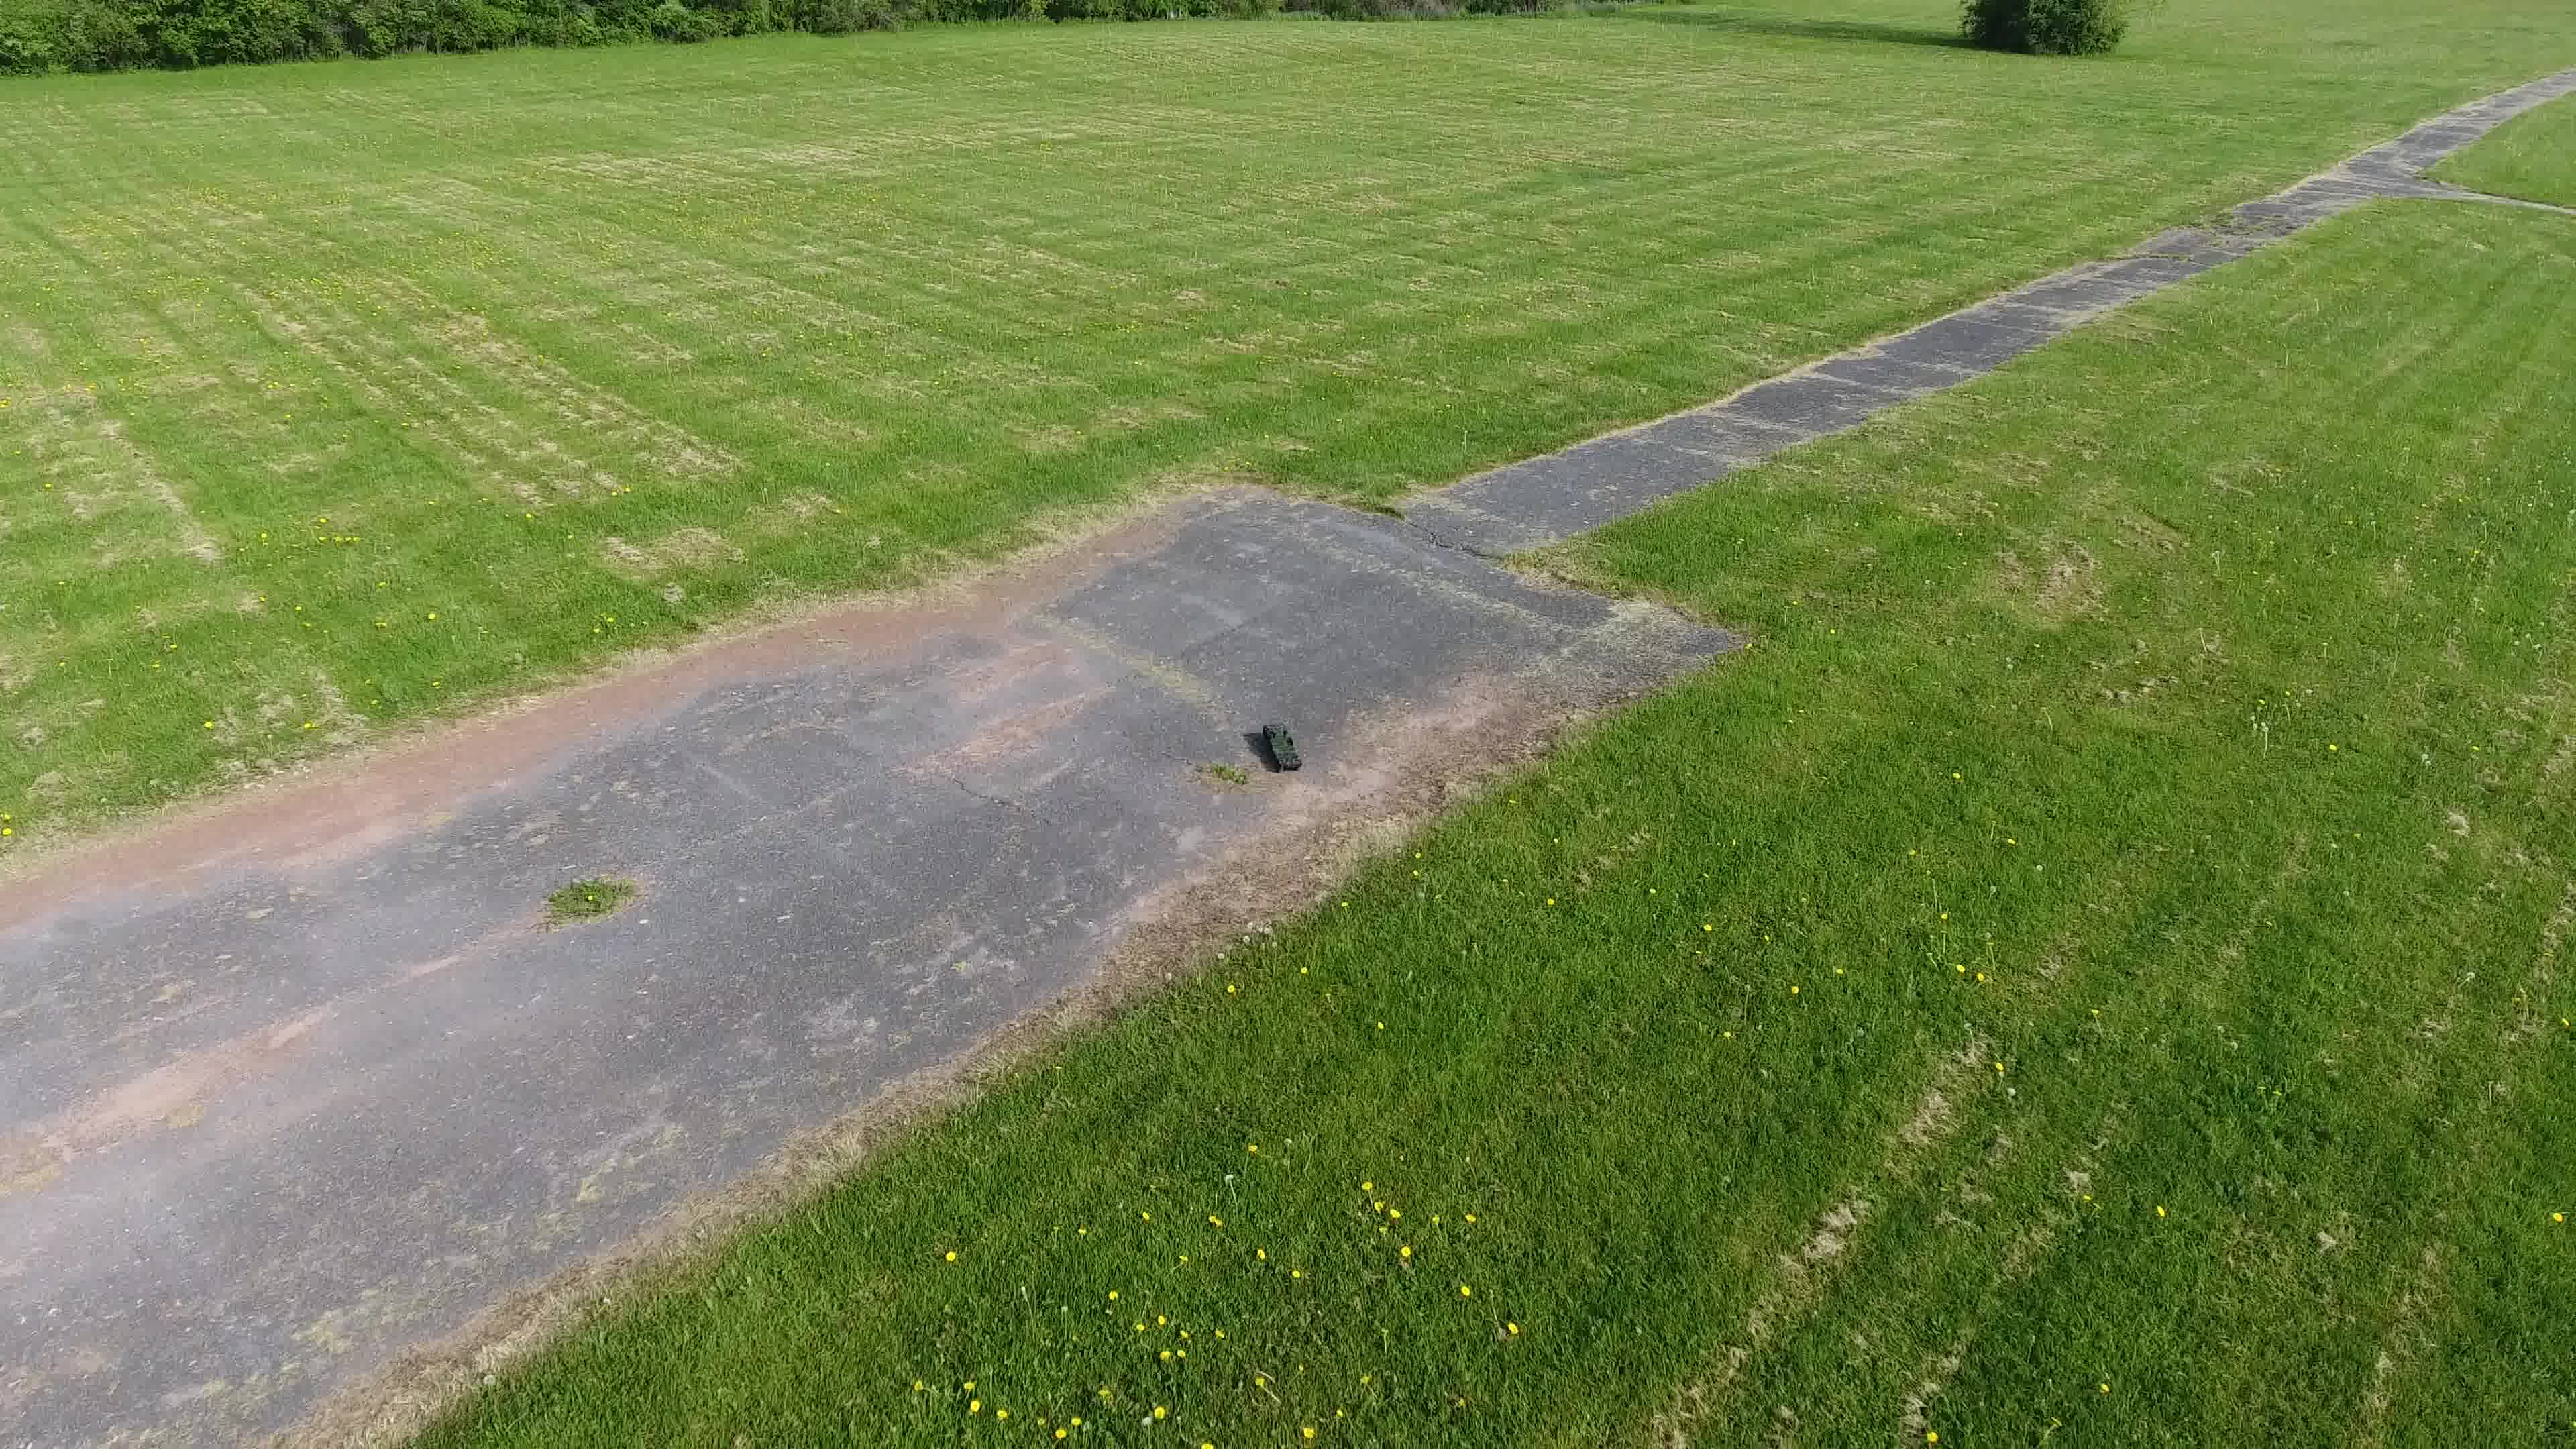transporter9: (1260, 720, 1304, 773)
